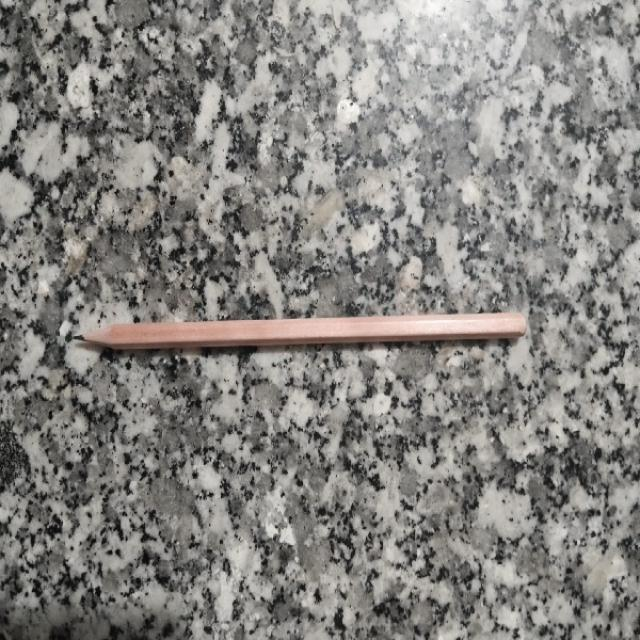pencil: (76, 313, 525, 348)
